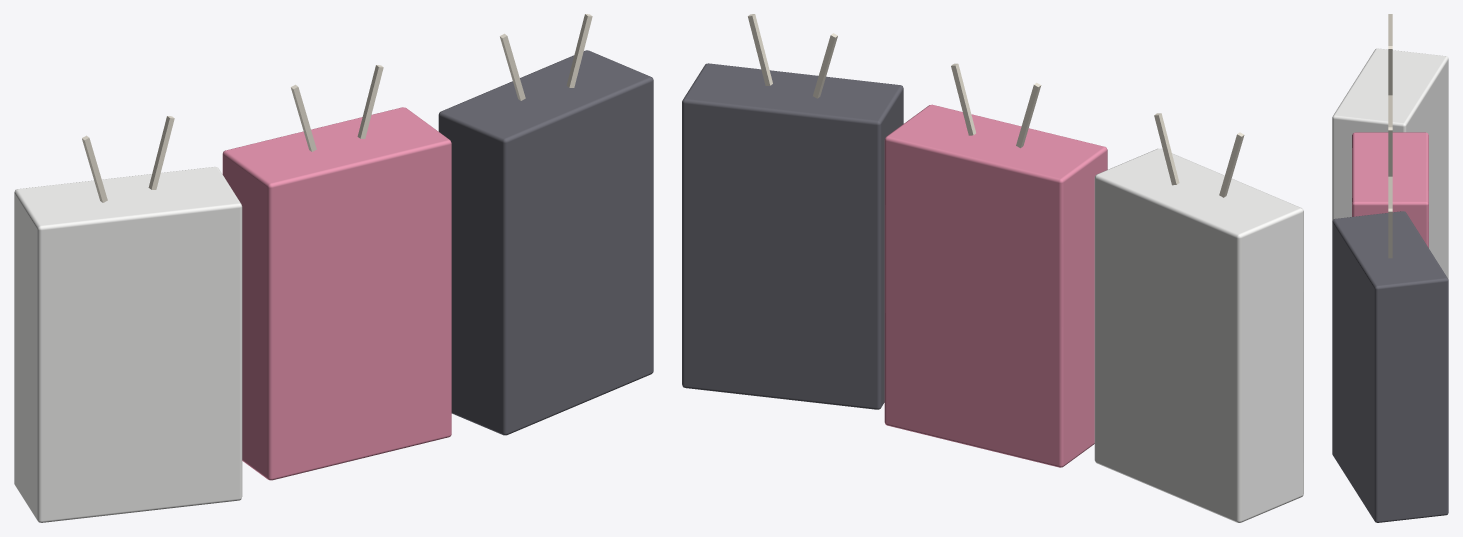
The model's file is escena.casa.bolsas_tiendas.fbx.
3 renders of one model, left to right at view 1: azimuth 30°, elevation 25°; view 2: azimuth 150°, elevation 25°; view 3: azimuth 270°, elevation 25°, orthographic. The views are drawn at different scales.
Parts seen in each view (by area): view 1: Bolsa.002, Bolsa.001, Bolsa; view 2: Bolsa.001, Bolsa.002, Bolsa; view 3: Bolsa, Bolsa.002, Bolsa.001, Asa, Asa.002, Asa.004, Asa.001, Asa.003, Asa.005.
Part boxes in pixels (left/top/right/bottom): Bolsa.002: left=14, top=167, right=242, bottom=522; Bolsa.001: left=222, top=107, right=451, bottom=480; Bolsa: left=438, top=50, right=653, bottom=435; Bolsa.001: left=884, top=104, right=1107, bottom=467; Bolsa.002: left=1094, top=148, right=1303, bottom=522; Bolsa: left=682, top=63, right=903, bottom=409; Bolsa: left=1332, top=211, right=1448, bottom=522; Bolsa.002: left=1332, top=48, right=1448, bottom=279; Bolsa.001: left=1352, top=132, right=1428, bottom=247; Asa: left=1388, top=208, right=1392, bottom=258; Asa.002: left=1388, top=127, right=1392, bottom=176; Asa.004: left=1388, top=46, right=1392, bottom=95; Asa.001: left=1388, top=176, right=1392, bottom=208; Asa.003: left=1388, top=95, right=1392, bottom=127; Asa.005: left=1388, top=14, right=1392, bottom=45.
Size of the model in its own units: 0.7363 by 0.4193 by 0.1515.
